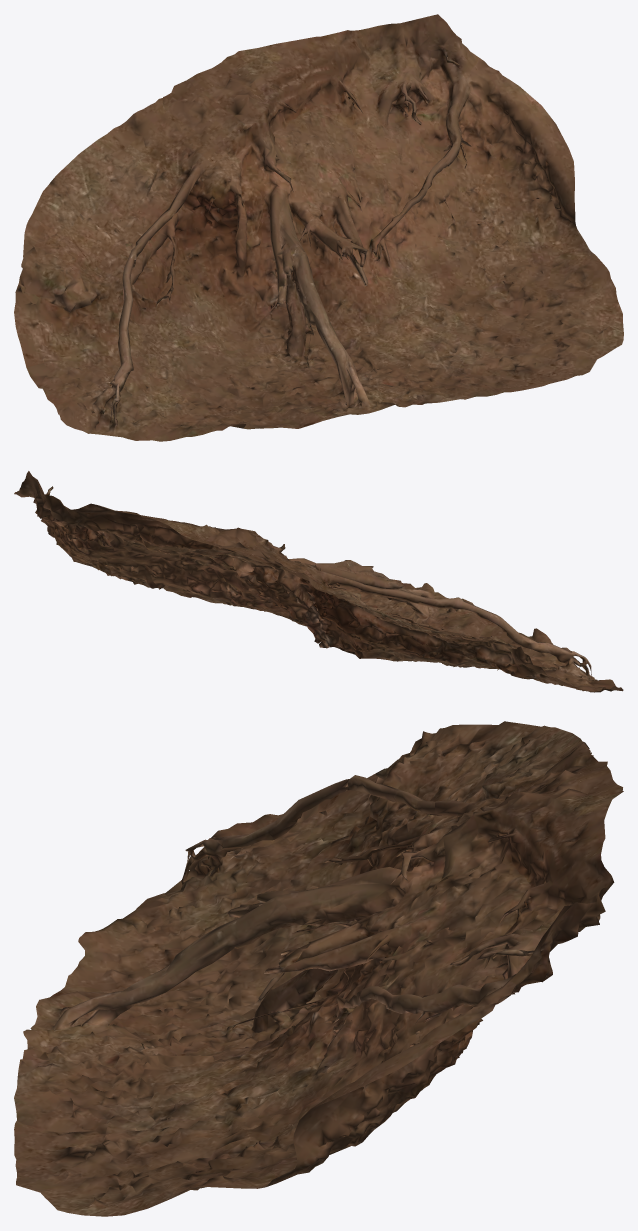
File: root_cluster_01.glb
3 renders of one model, top to bottom at view 1: azimuth 30°, elevation 25°; view 2: azimuth 150°, elevation 25°; view 3: azimuth 270°, elevation 25°, orthographic. The views are drawn at different scales.
Parts seen in each view (by area): view 1: root_cluster_01; view 2: root_cluster_01; view 3: root_cluster_01.
Part boxes in pixels (x1=…): root_cluster_01: x1=14, y1=14, x2=623, y2=441; root_cluster_01: x1=14, y1=471, x2=623, y2=692; root_cluster_01: x1=14, y1=721, x2=623, y2=1216.
Bounding box in the file's own units: 4.12 × 1.51 × 2.68.
1 material, 1 textured.
